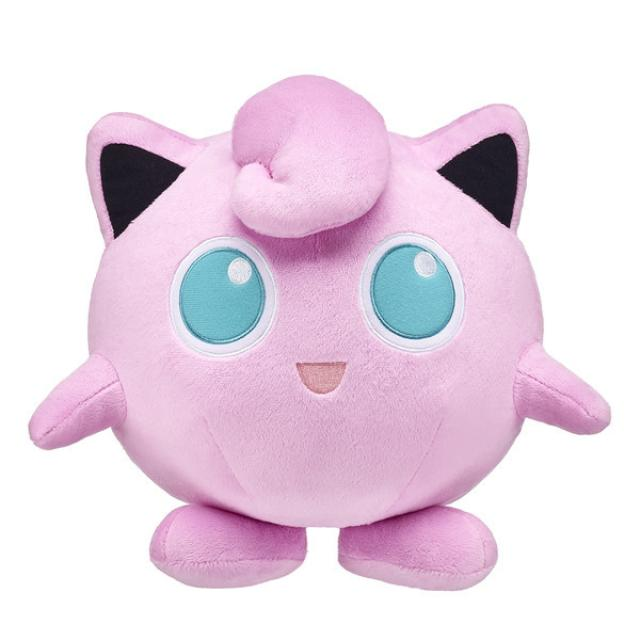Jigglypuff: (80, 76, 542, 584)
